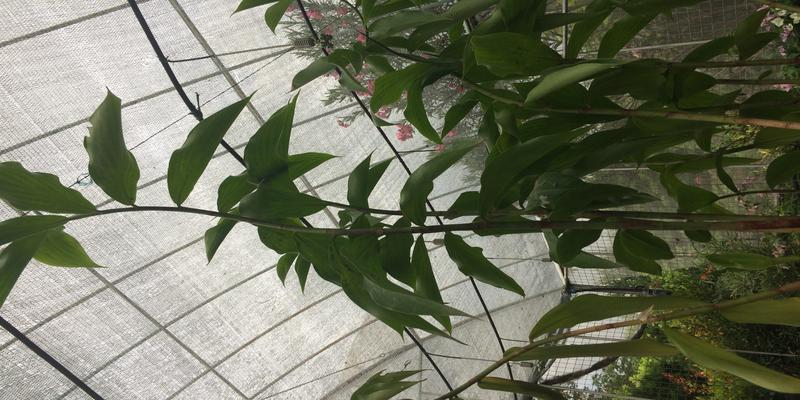Insulin: (144, 48, 784, 304)
